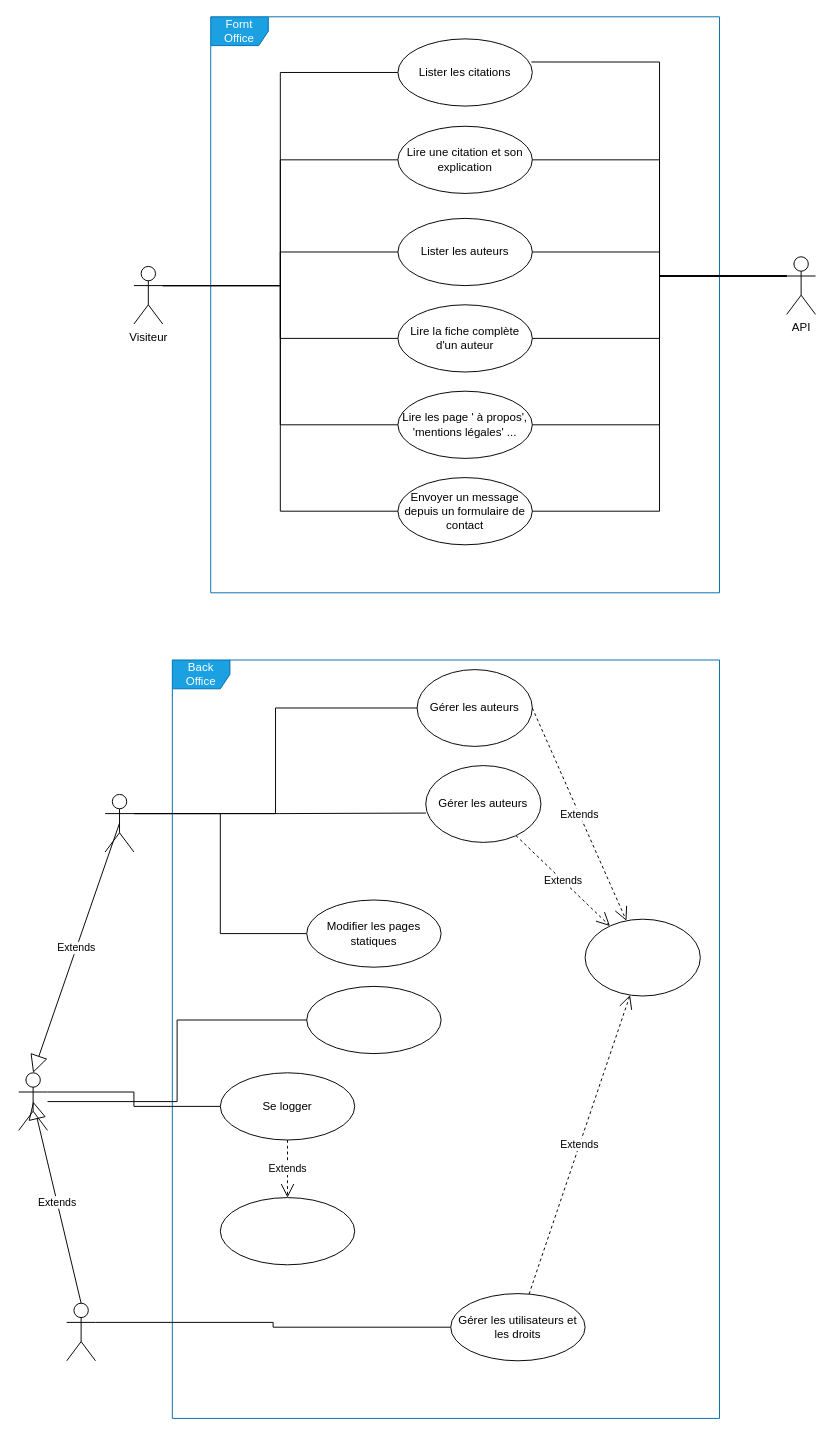
Image size: 832x1435. Some labels were removed from this diagram. Each missing label, with the centre of its shape:
"Admin" goes at point (81, 1331).
"CRUD" goes at point (642, 957).
"Editeur" goes at point (119, 822).
"Inscrit" goes at point (33, 1101).
"Modifier son porfil" goes at point (373, 1019).
"Réinitialiser son mot de passe" goes at point (287, 1231).
